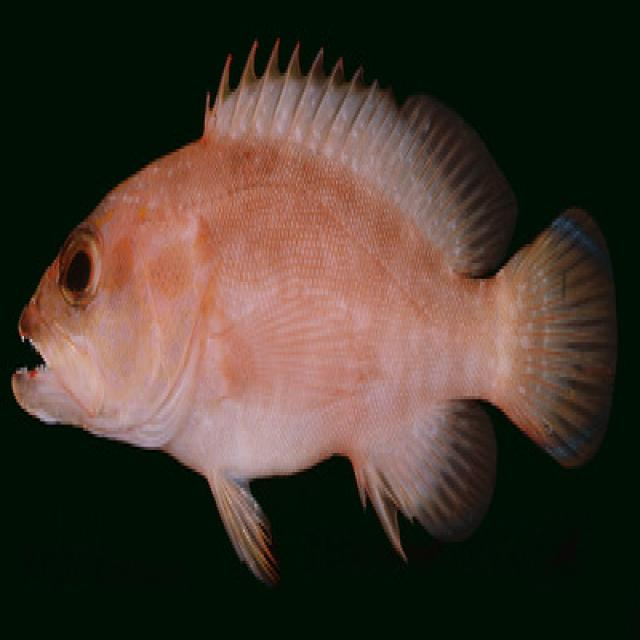ikan: (10, 32, 618, 586)
